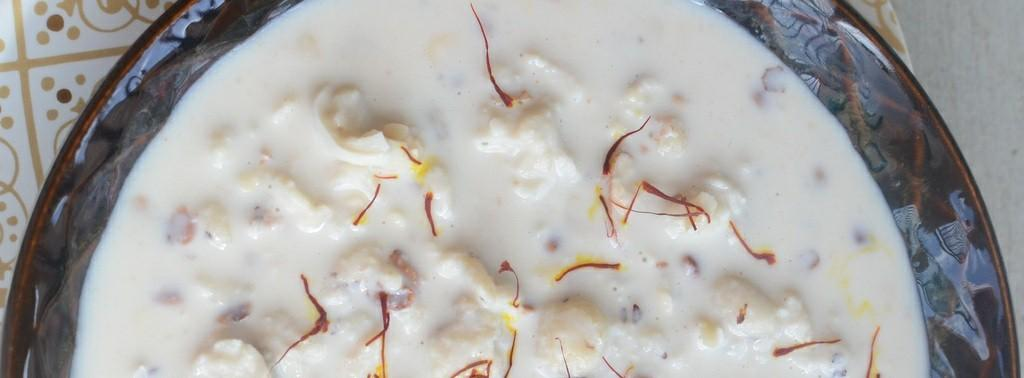Kheer: (70, 0, 921, 378)
